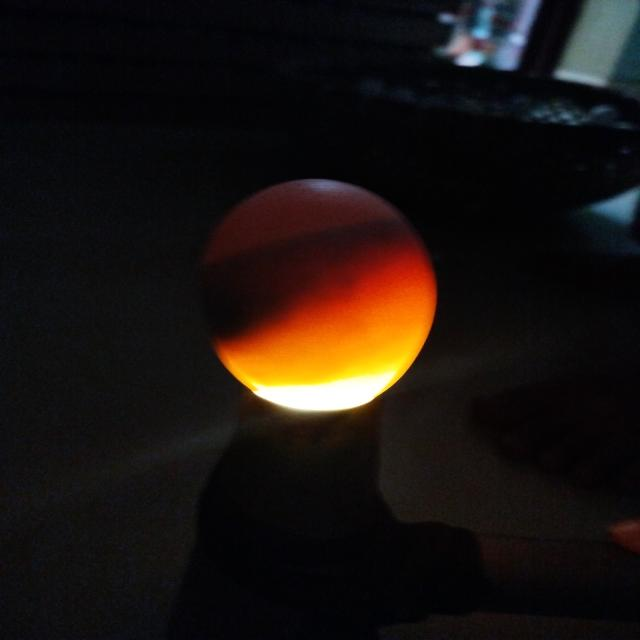Area Infectada: (198, 218, 430, 344)
